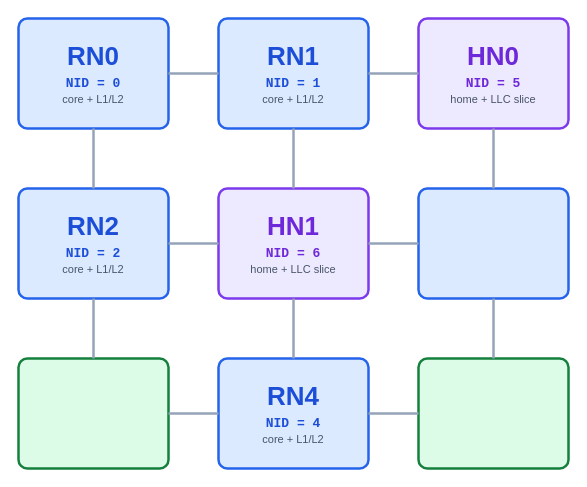
Some shapes in this 587 by 487 pixel diagram are drawn without their labels. The centre of each missing label's shape, as x and y in pixels:
"RN3 NID = 3 core + L1/L2" goes at (493,243).
"SN0 NID = 7 DDR channel" goes at (93,413).
"SN1 NID = 8 DDR channel" goes at (493,413).
